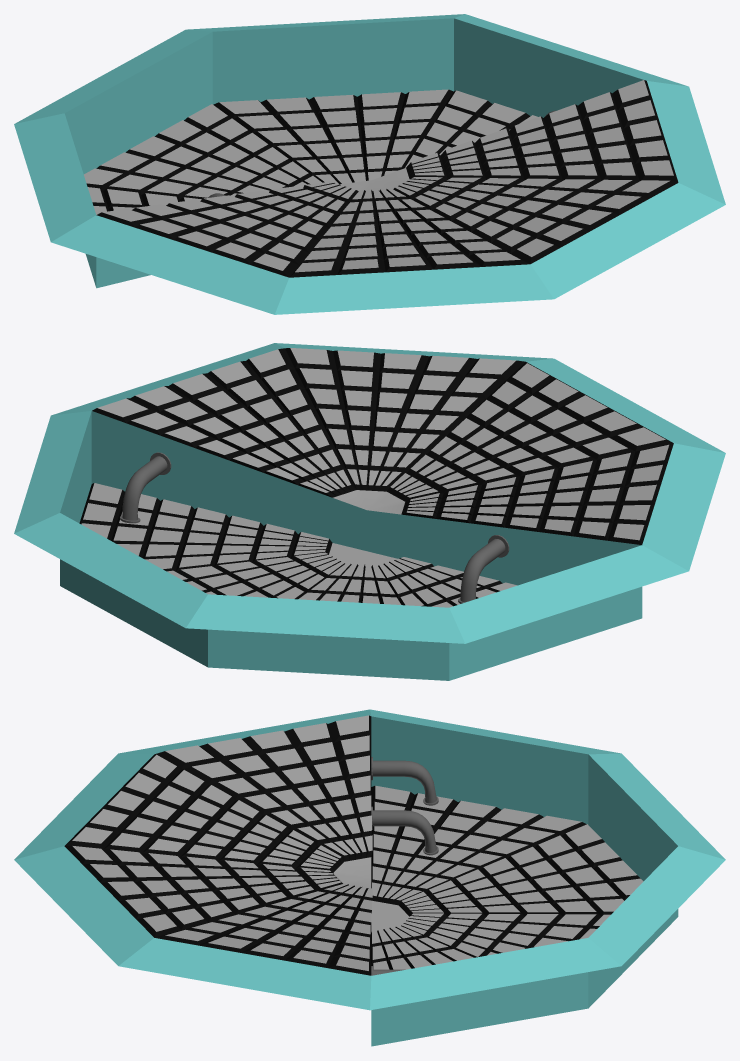
File: plafond.fbx
3 renders of one model, top to bottom at view 1: azimuth 30°, elevation 25°; view 2: azimuth 150°, elevation 25°; view 3: azimuth 270°, elevation 25°, orthographic. The views are drawn at different scales.
Visible parts, largest first — view 1: Cylinder094; view 2: Cylinder094; view 3: Cylinder094.
Boxes of the visible parts, x1,y1,x2,y2 form: Cylinder094: [14, 14, 725, 314]; Cylinder094: [14, 343, 725, 680]; Cylinder094: [14, 709, 725, 1046].
Size of the model in its own units: 146 by 16.65 by 146.
